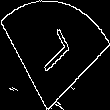L_SW: (33, 27, 77, 83)
